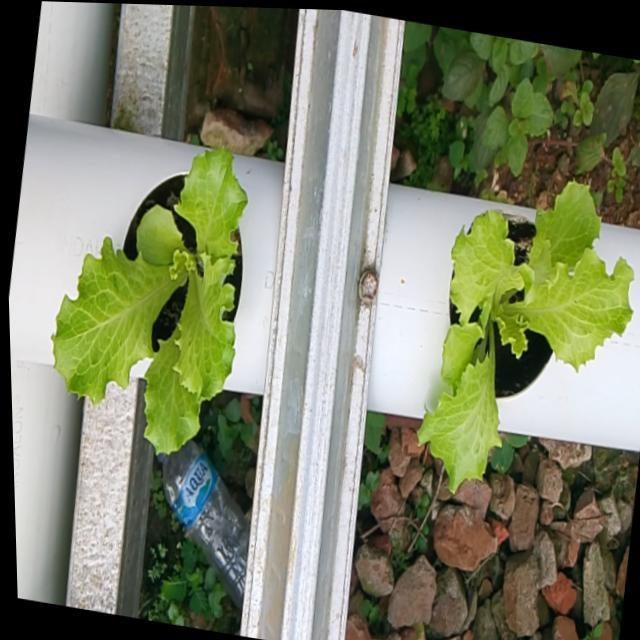Baby: (422, 181, 638, 492), (56, 147, 252, 456)
